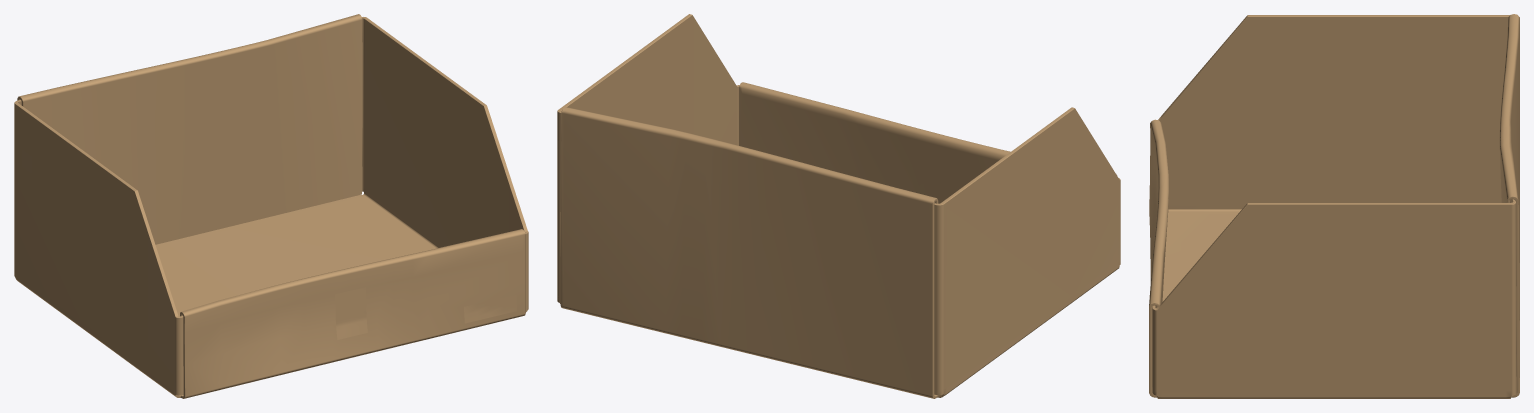
Rendered from box_cardboard_open_a06.glb.
The picture shows the model from 3 angles, left to right: view 1: azimuth 30°, elevation 25°; view 2: azimuth 150°, elevation 25°; view 3: azimuth 270°, elevation 25°; orthographic projection. The views are drawn at different scales.
Size of the model in its own units: 0.611 by 0.3024 by 0.5053.
